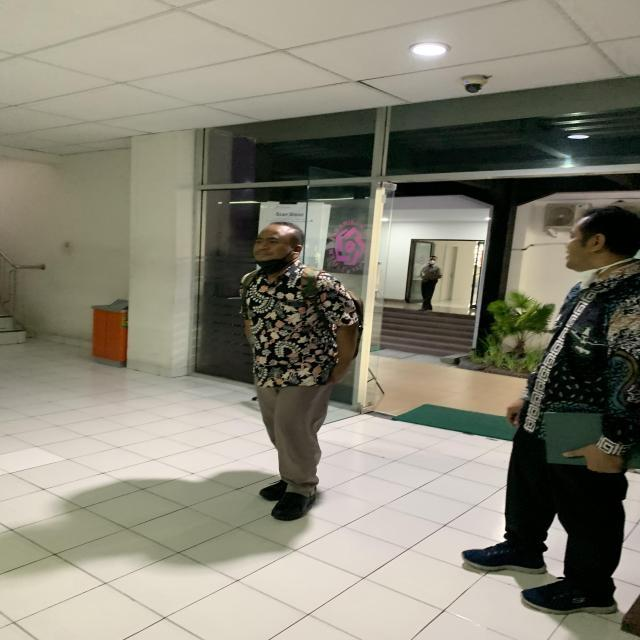hairnet: (564, 203, 640, 278), (247, 218, 311, 272)
